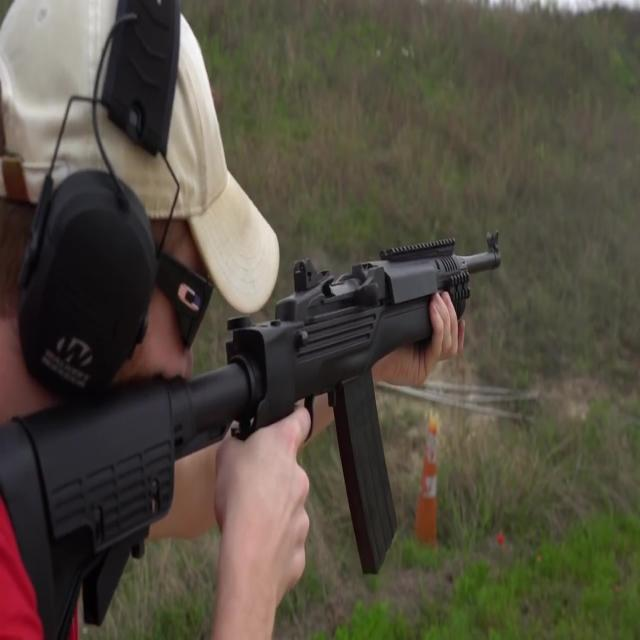Weapon: (0, 200, 558, 638)
